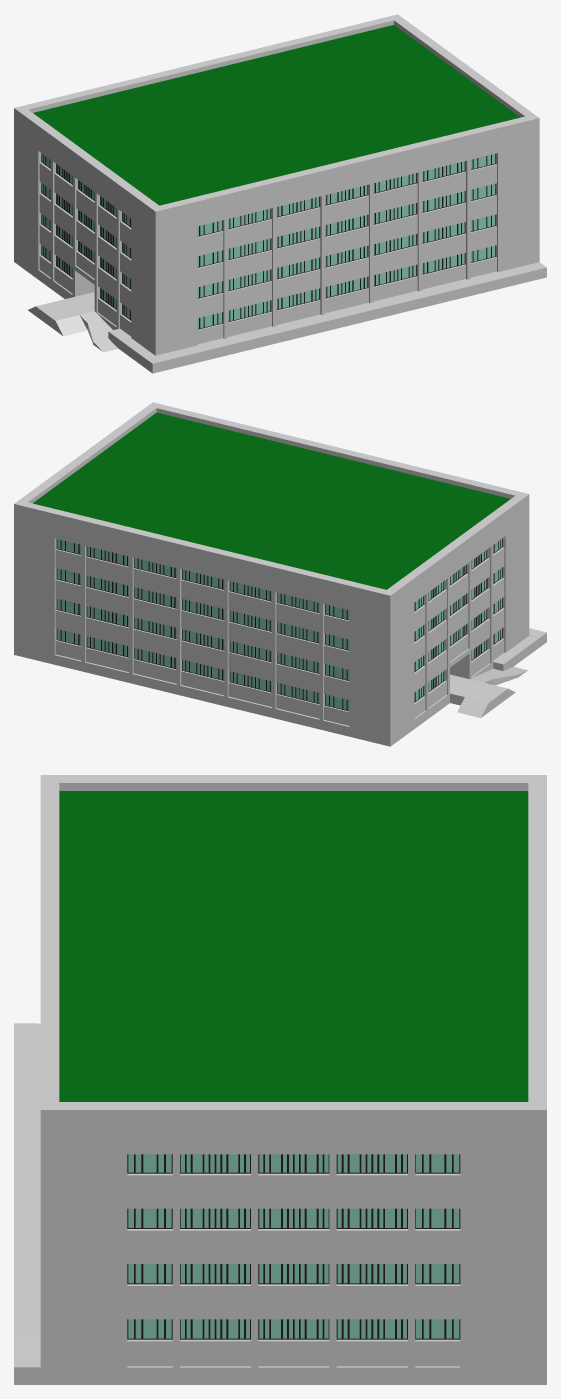
The model's file is Faculty Center.fbx.
3 views of the same model, one above another, from view 1: azimuth 30°, elevation 25°; view 2: azimuth 150°, elevation 25°; view 3: azimuth 270°, elevation 25° (orthographic). The views are drawn at different scales.
Visible parts, largest first — view 1: Faculty Center; view 2: Faculty Center; view 3: Faculty Center.
Part boxes in pixels (x1,y1,x2,y2): Faculty Center: (14,14,546,373); Faculty Center: (14,402,546,746); Faculty Center: (14,775,546,1384).
Bounding box in the file's own units: 140 × 48.65 × 85.41.
